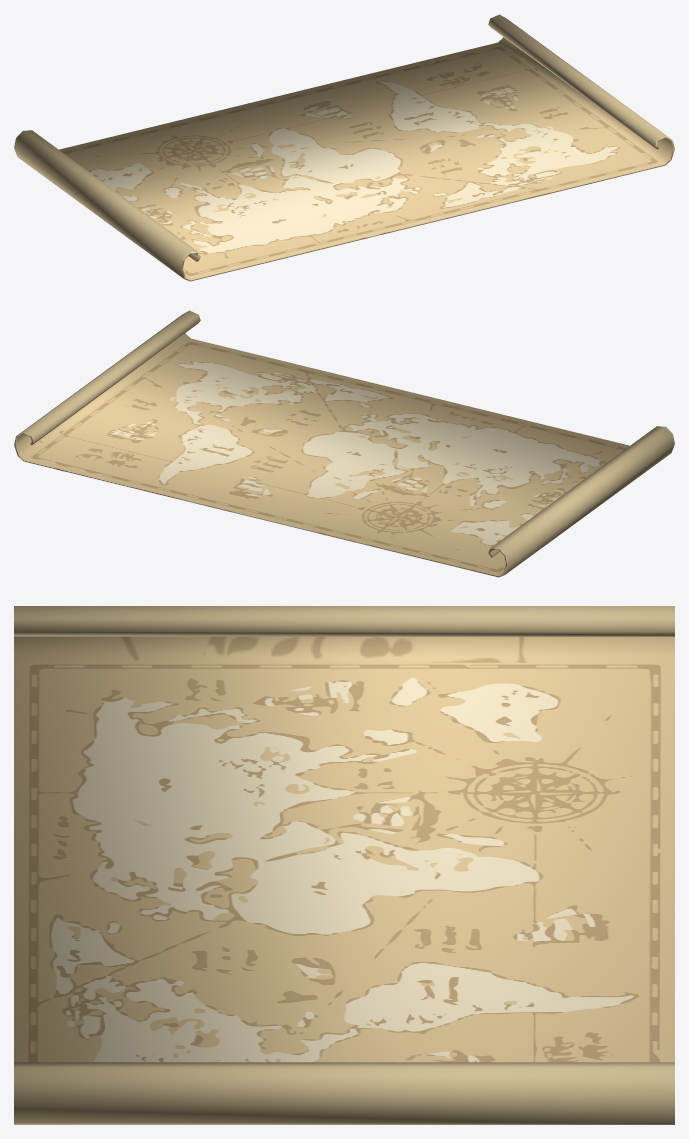
Rendered from Map.fbx.
3 views of the same model, one above another, from view 1: azimuth 30°, elevation 25°; view 2: azimuth 150°, elevation 25°; view 3: azimuth 270°, elevation 25° (orthographic). The views are drawn at different scales.
Parts seen in each view (by area): view 1: Plane; view 2: Plane; view 3: Plane.
Boxes of the visible parts, x1=… form: Plane: x1=14, y1=14, x2=674, y2=281; Plane: x1=14, y1=310, x2=674, y2=577; Plane: x1=14, y1=606, x2=674, y2=1124.
Bounding box in the file's own units: 343 × 19.28 × 200.
